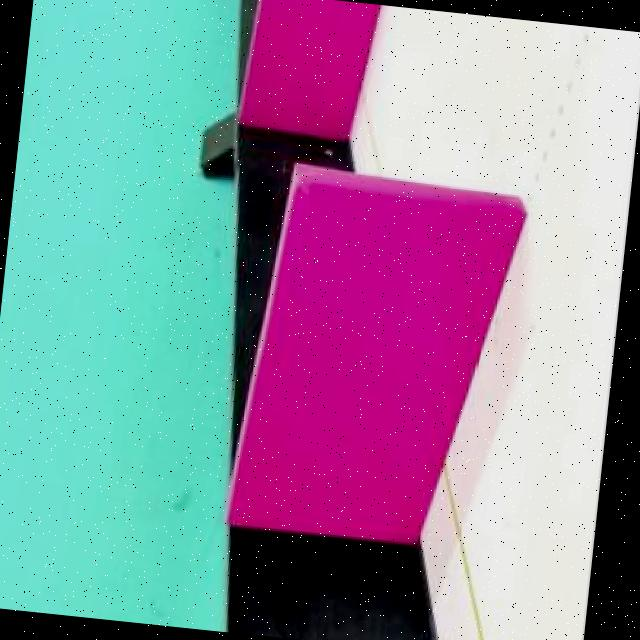xparking: (264, 173, 506, 535), (248, 0, 374, 126)
